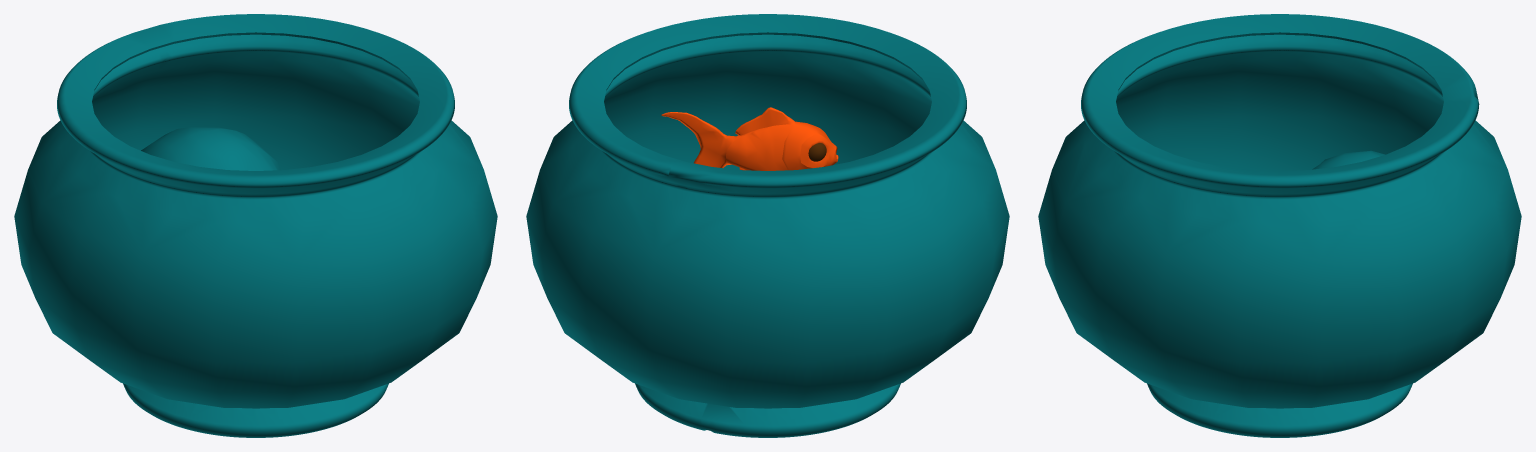
Rendered from GoldfishBowlSkull.obj.
The picture shows the model from 3 angles, left to right: view 1: azimuth 30°, elevation 25°; view 2: azimuth 150°, elevation 25°; view 3: azimuth 270°, elevation 25°; orthographic projection.
Parts seen in each view (by area): view 1: initialShadingGrouprevolvedSurface1, initialShadingGroup Skull:polySurface1; view 2: initialShadingGrouprevolvedSurface1, initialShadingGrouppolySurface1; view 3: initialShadingGrouprevolvedSurface1, initialShadingGroup Skull:polySurface1.
Boxes of the visible parts, bbox=[...] form: initialShadingGrouprevolvedSurface1: bbox=[14, 14, 497, 437]; initialShadingGroup Skull:polySurface1: bbox=[141, 127, 280, 170]; initialShadingGrouprevolvedSurface1: bbox=[526, 14, 1009, 437]; initialShadingGrouppolySurface1: bbox=[661, 107, 838, 170]; initialShadingGrouprevolvedSurface1: bbox=[1038, 14, 1521, 437]; initialShadingGroup Skull:polySurface1: bbox=[1312, 150, 1385, 169].
Size of the model in its own units: 39.54 by 26.68 by 40.16.
